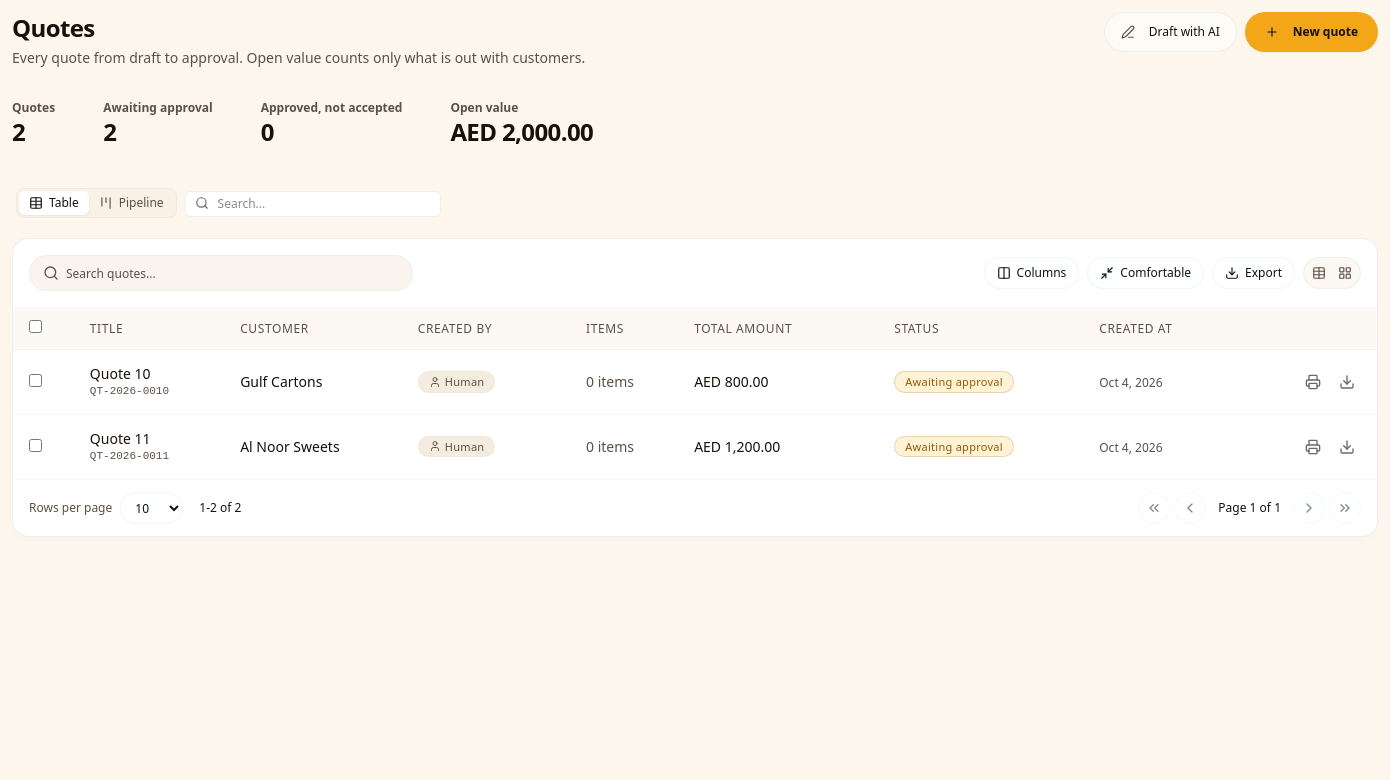
Scenario: QuotesView › works the figures out from the rows the search leaves
Check: the text "AED 2,000.00" is shown, box [450,116,593,148]
Type "gulf" into the field with placeholder "Search..." at (313, 204), box [185,190,441,216]
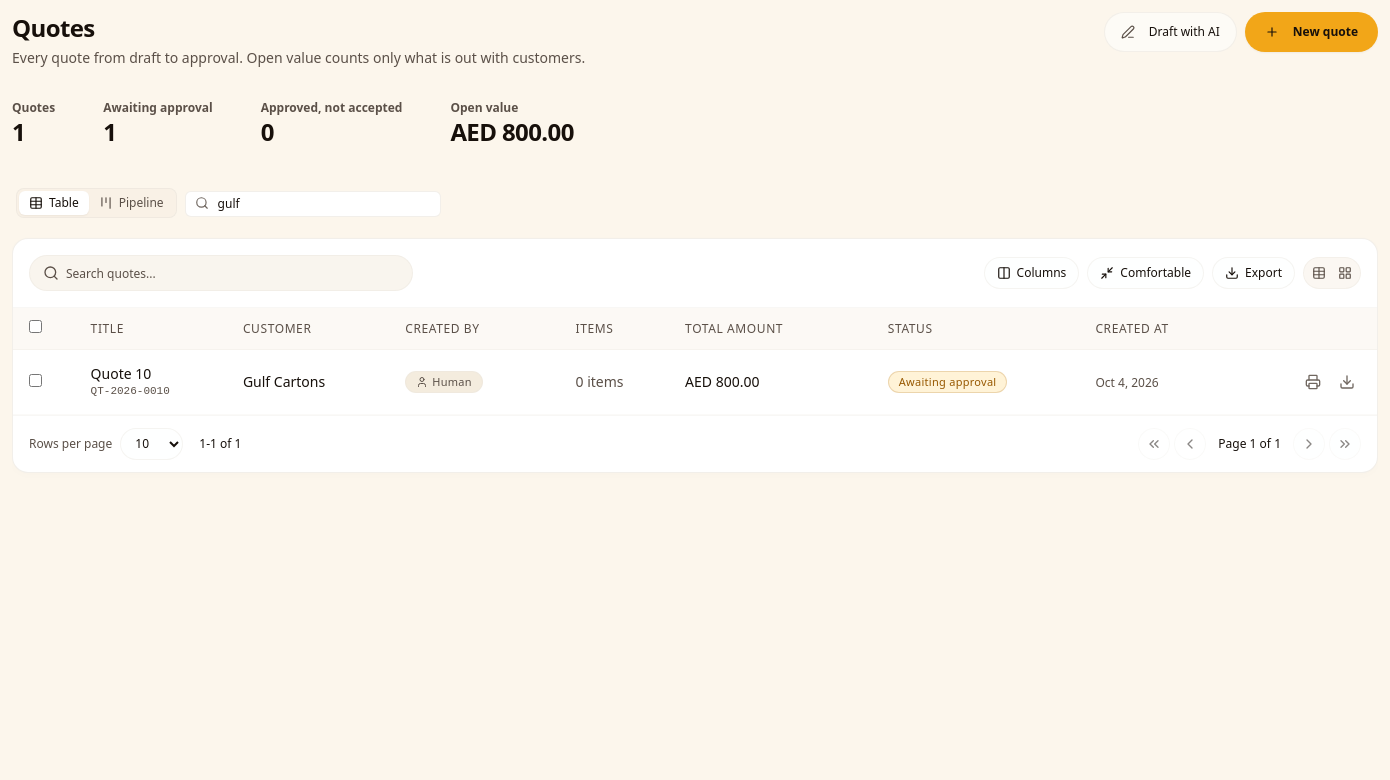
Check: the text "AED 800.00" below "Approved, not accepted" is shown, box [450,115,574,148]
Check: the text "2,000.00" is gone
